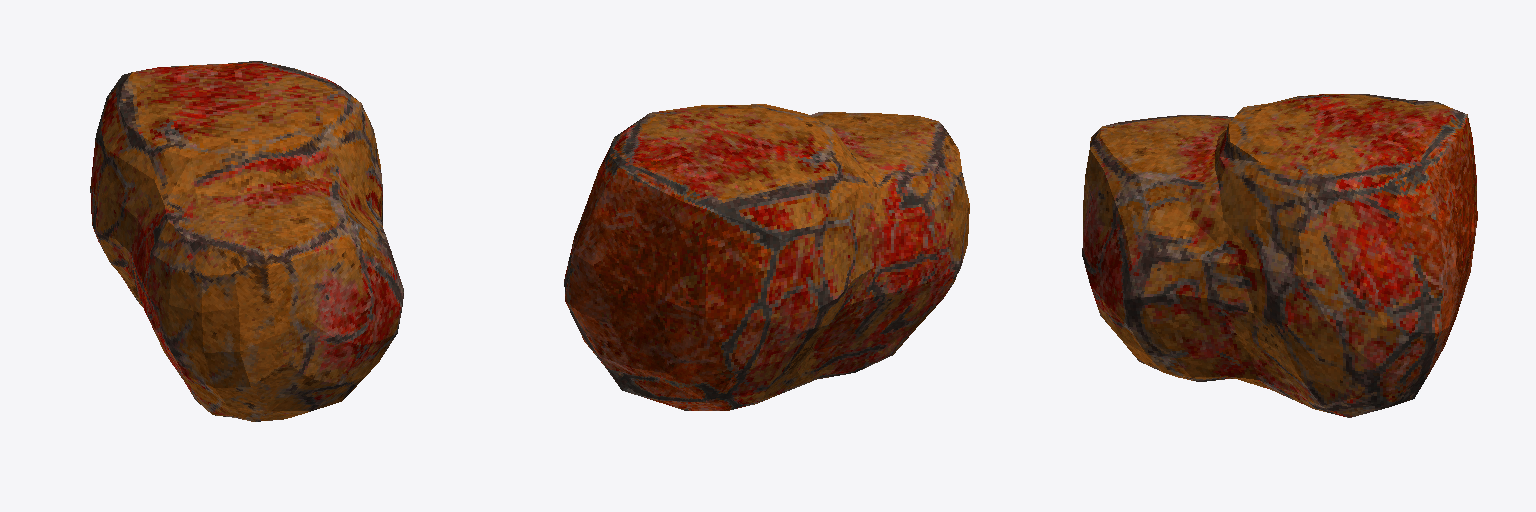
The picture shows the model from 3 angles: view 1: azimuth 30°, elevation 25°; view 2: azimuth 150°, elevation 25°; view 3: azimuth 270°, elevation 25°; orthographic projection.
Visible parts, largest first — view 1: Plateforme_stone_Big_rock_atlas_0; view 2: Plateforme_stone_Big_rock_atlas_0; view 3: Plateforme_stone_Big_rock_atlas_0.
Part boxes in pixels (left/top/right/bottom): Plateforme_stone_Big_rock_atlas_0: left=90, top=61, right=403, bottom=421; Plateforme_stone_Big_rock_atlas_0: left=564, top=104, right=969, bottom=410; Plateforme_stone_Big_rock_atlas_0: left=1082, top=94, right=1477, bottom=417.
Bounding box in the file's own units: 7.02 × 6.38 × 8.58.
1 materials, 1 textured.